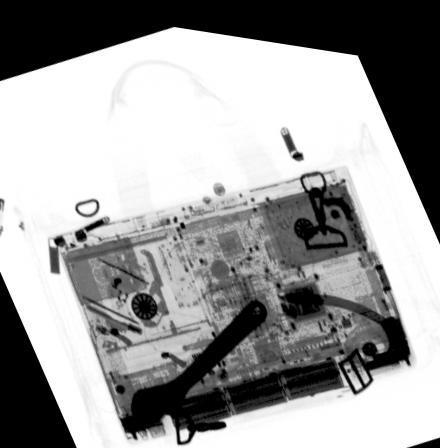Wrench: (127, 288, 268, 428)
